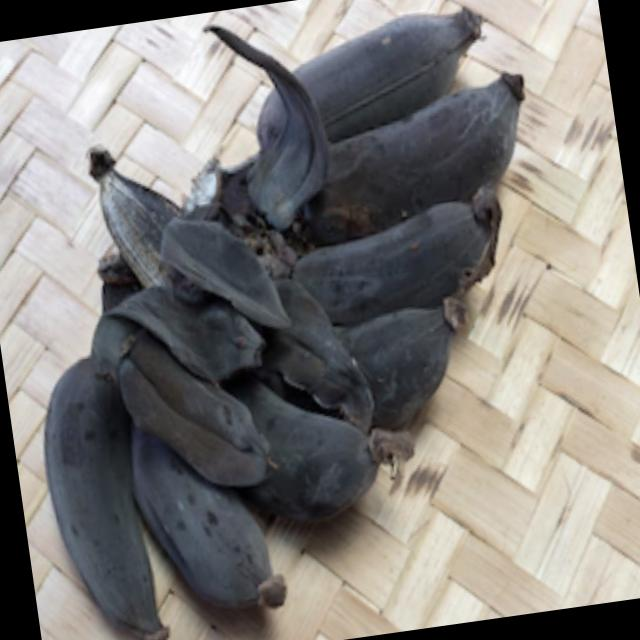rotten-banana: (93, 305, 274, 640), (184, 298, 392, 551), (0, 320, 164, 640), (298, 69, 558, 241), (242, 0, 514, 151), (299, 170, 516, 324)
